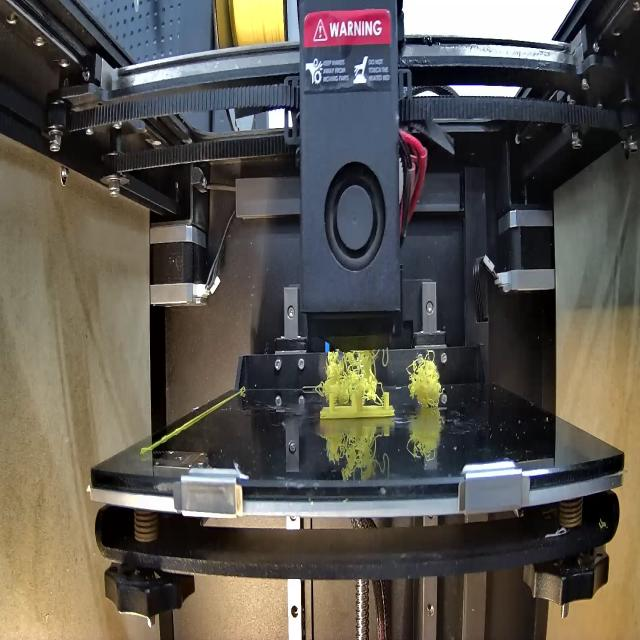spaghetti: (320, 342, 387, 403), (406, 351, 447, 409)
